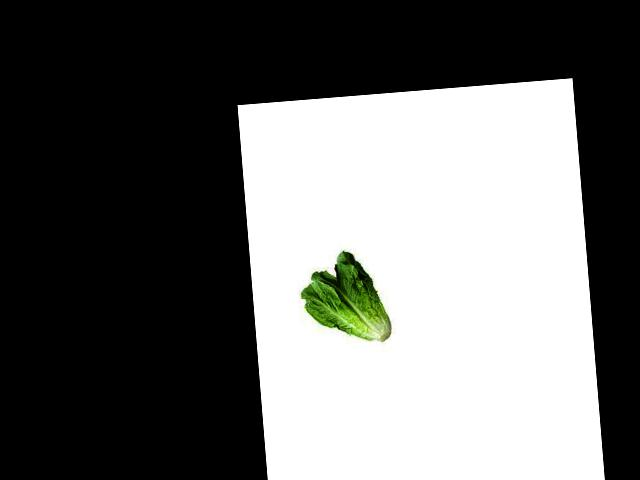lettuce: (299, 242, 393, 360)
